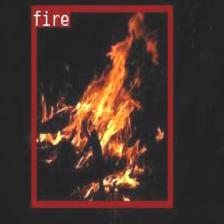fire: (31, 5, 172, 206)
